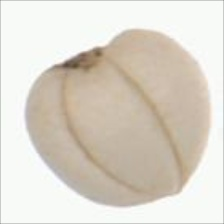L5: (60, 59, 187, 199), (142, 165, 198, 208), (54, 42, 112, 73)
L6: (23, 27, 215, 206)
